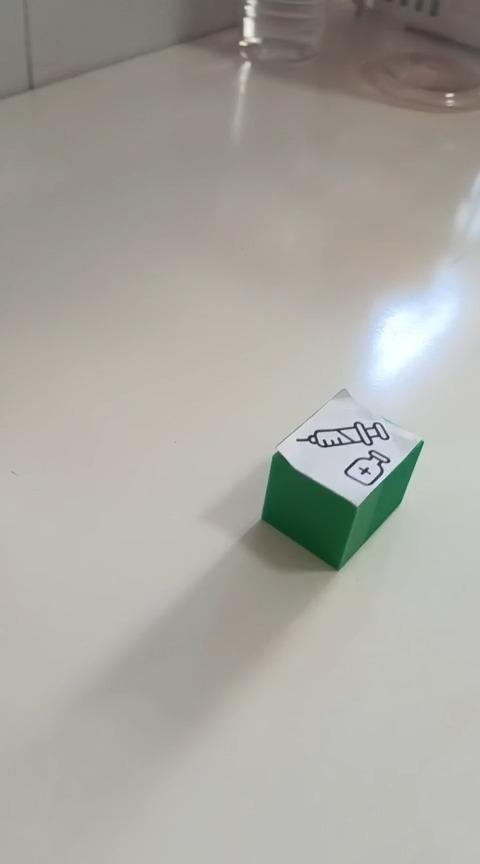antiseptic cream: (259, 386, 424, 571)
